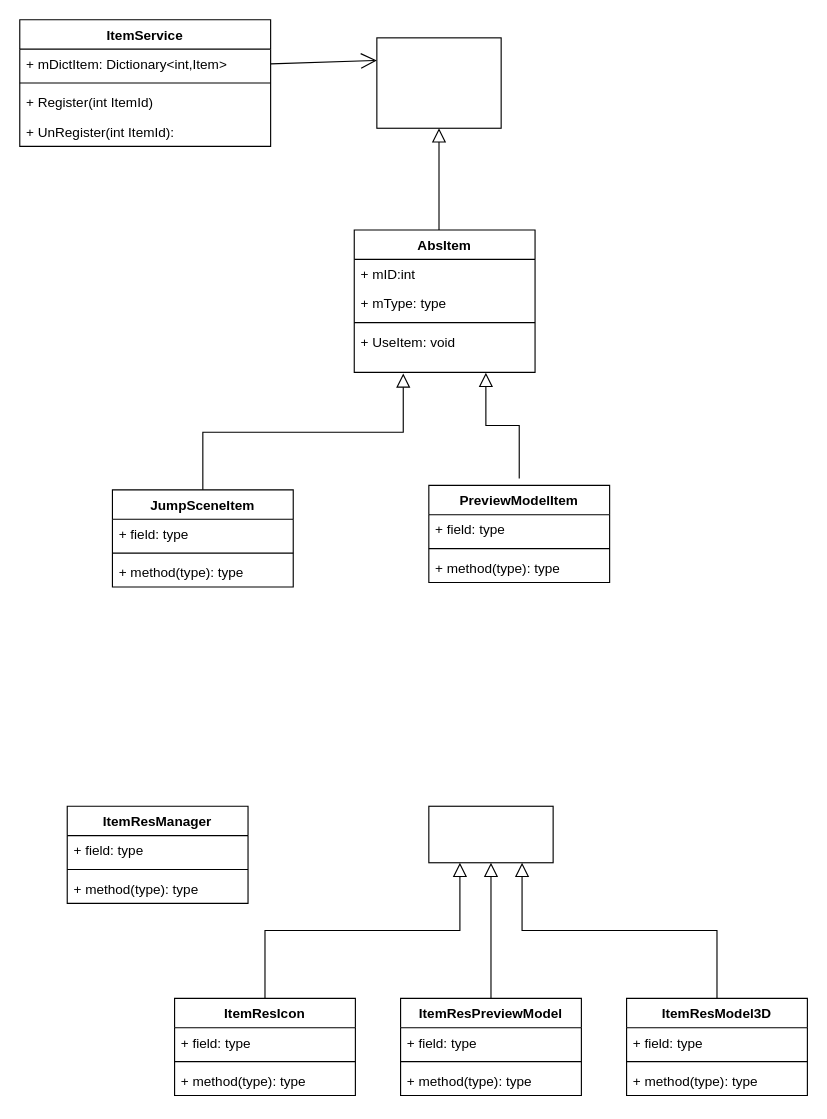
Image size: 827x1119. Some labels were removed from this diagram. Here are the shapes that lost their labels. From the top down, the centre of each, then its label:
At [438,82]: "«interface» IItem --------------------- int ID（） enum Type（）".
At [490,834]: "«interface» IItemRes".
